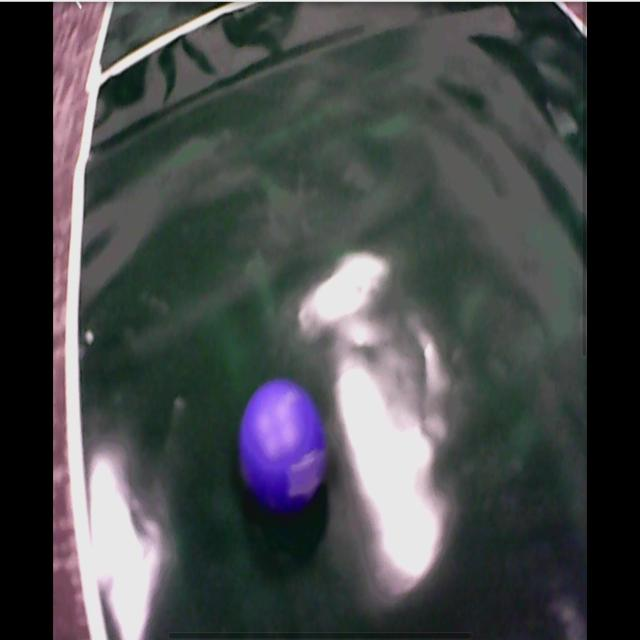ball: (241, 381, 329, 511)
